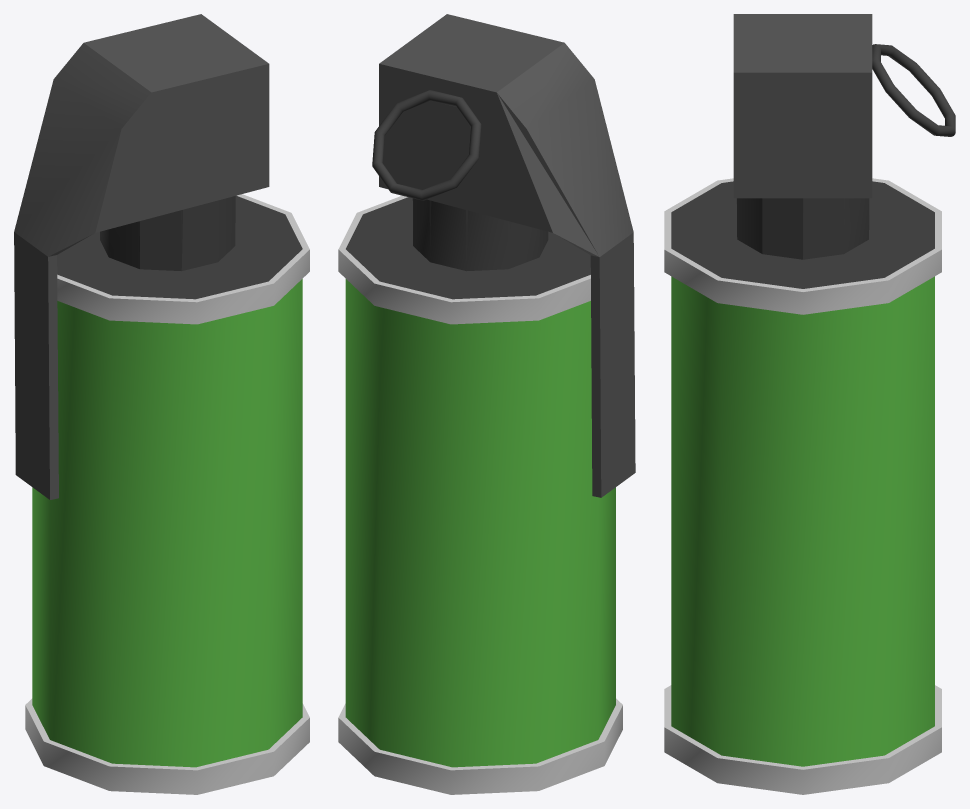
The model's file is SmokeGrenade.fbx.
3 renders of one model, left to right at view 1: azimuth 30°, elevation 25°; view 2: azimuth 150°, elevation 25°; view 3: azimuth 270°, elevation 25°, orthographic. The views are drawn at different scales.
Visible parts, largest first — view 1: Torus_1; view 2: Torus_1; view 3: Torus_1.
Part boxes in pixels (bbox=[...]): Torus_1: bbox=[14, 14, 309, 794]; Torus_1: bbox=[338, 14, 635, 794]; Torus_1: bbox=[664, 14, 955, 794].
Size of the model in its own units: 111 by 276 by 105.
